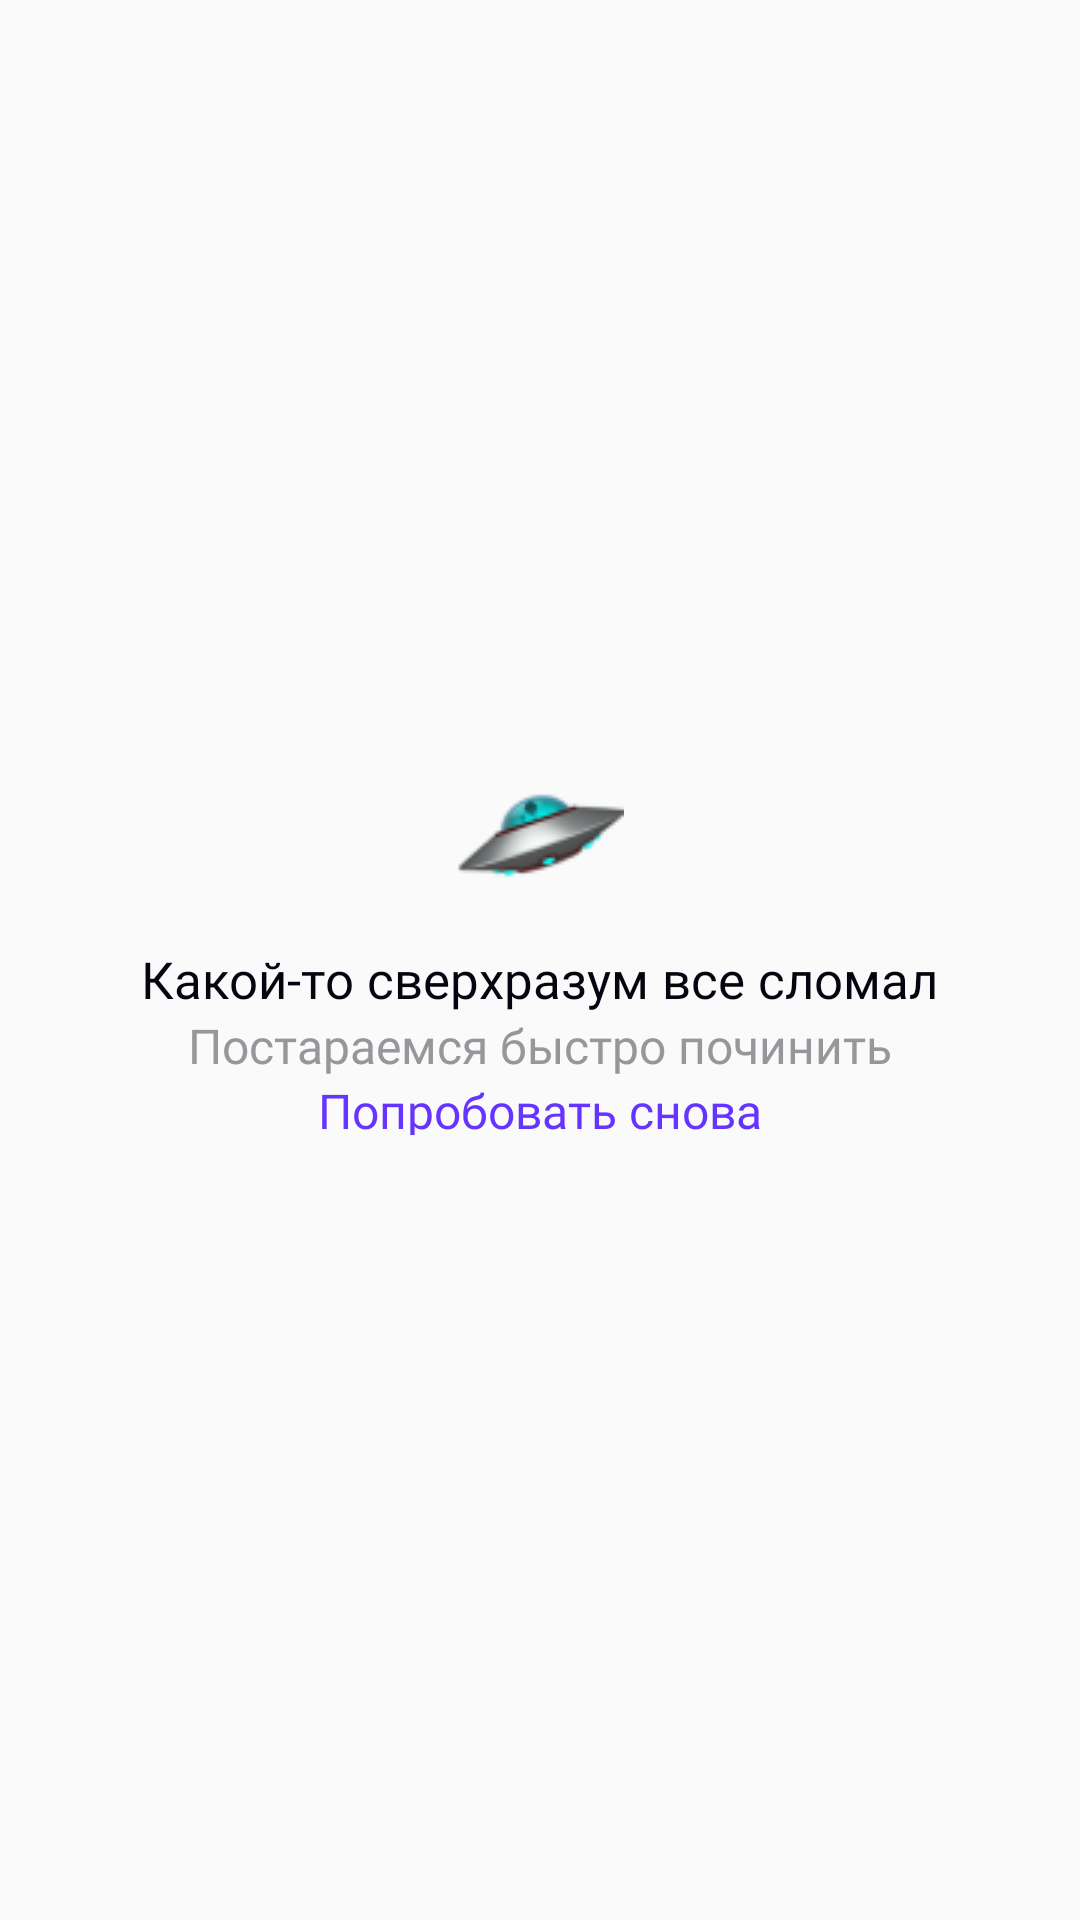

Screen size 1080w x 1920h. Icon name, then its center in pixels as (x=x, y=y):
Космический корабль: (x=541, y=835)
